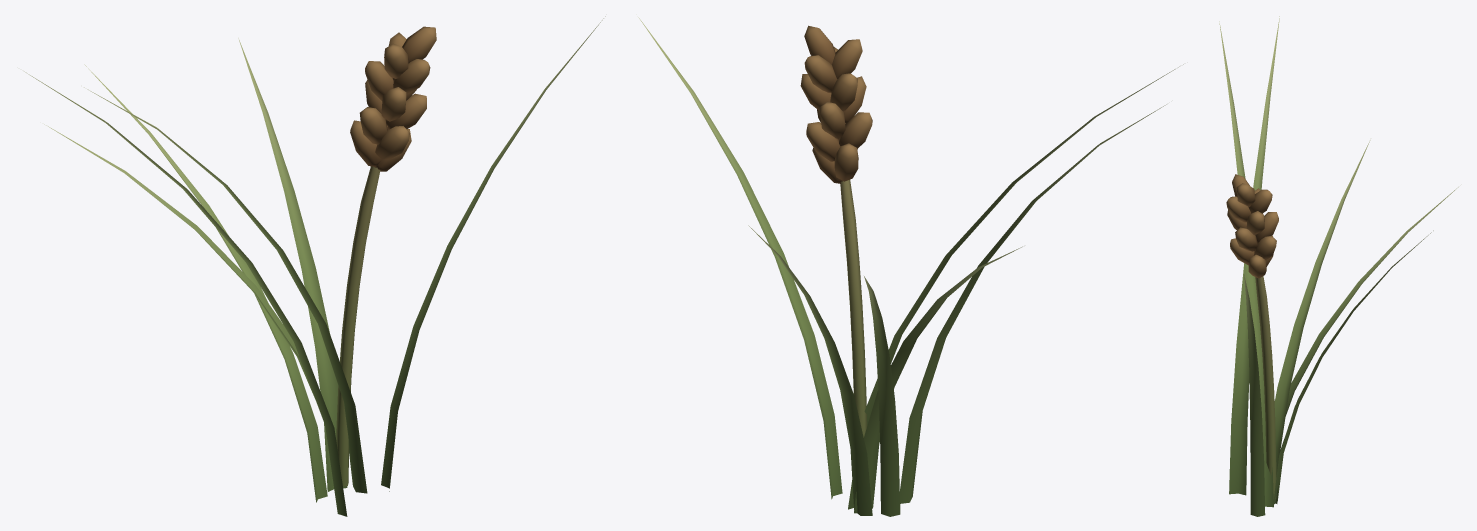
Rendered from Coast_Grass_B.fbx.
The picture shows the model from 3 angles, left to right: view 1: azimuth 30°, elevation 25°; view 2: azimuth 150°, elevation 25°; view 3: azimuth 270°, elevation 25°; orthographic projection. The views are drawn at different scales.
Parts seen in each view (by area): view 1: Coast_Grass_B; view 2: Coast_Grass_B; view 3: Coast_Grass_B.
Boxes of the visible parts, x1,y1,x2,y2 form: Coast_Grass_B: (24, 16, 605, 516); Coast_Grass_B: (638, 17, 1183, 516); Coast_Grass_B: (1219, 16, 1458, 516).
Bounding box in the file's own units: 4.73 × 4.02 × 2.36.
